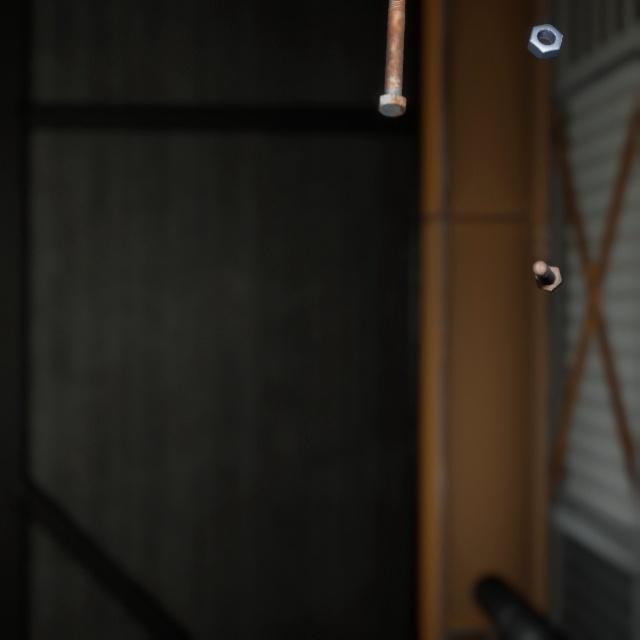bolt: (373, 0, 410, 112), (528, 239, 566, 280)
nut: (522, 10, 567, 55)
